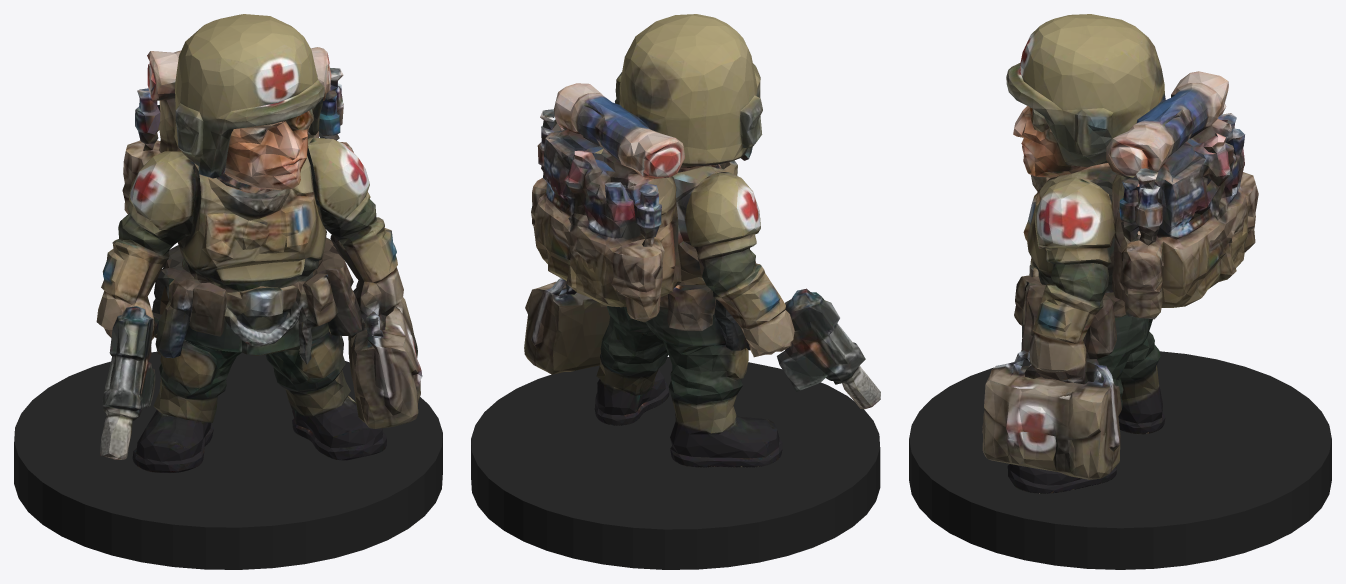
File: cadian-medic.glb
3 renders of one model, left to right at view 1: azimuth 30°, elevation 25°; view 2: azimuth 150°, elevation 25°; view 3: azimuth 270°, elevation 25°, orthographic. The views are drawn at different scales.
Parts seen in each view (by area): view 1: figure, base; view 2: figure, base; view 3: figure, base.
Boxes of the visible parts, <box> form: figure: <box>96,14,422,472</box>; base: <box>14,351,442,569</box>; figure: <box>524,14,880,467</box>; base: <box>471,357,880,569</box>; figure: <box>982,14,1258,493</box>; base: <box>909,351,1331,569</box>.
Size of the model in its own units: 1.1 by 1.32 by 1.1.
Materials: 2 (1 with a texture image).
